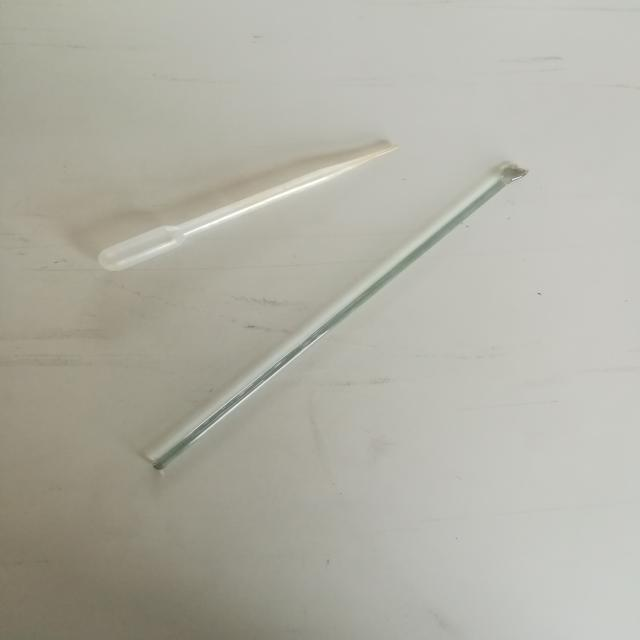Glass_Rod: (142, 138, 590, 498)
Pipette: (74, 78, 404, 289)
